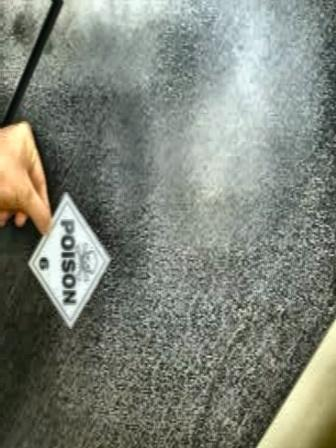poison: (27, 190, 109, 326)
